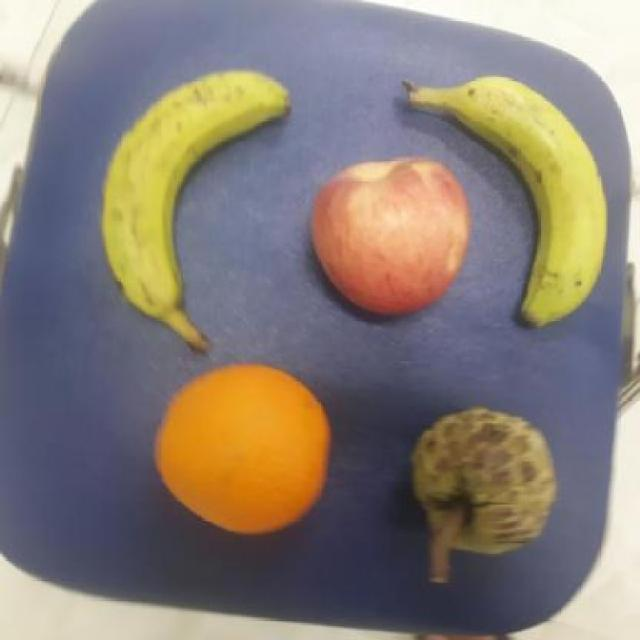apple: (299, 153, 476, 321)
banana: (96, 57, 295, 311), (444, 70, 614, 332)
oren: (152, 362, 343, 538)
sugar apple: (407, 408, 562, 554)
